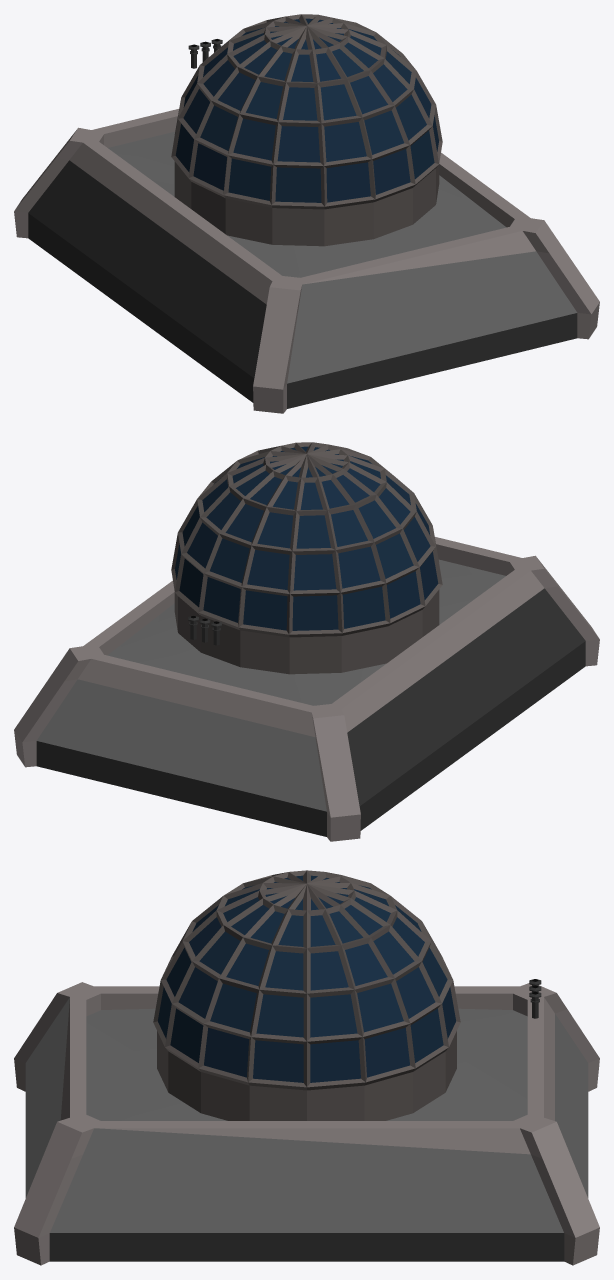
File: Cupula.fbx
The picture shows the model from 3 angles, top to bottom: view 1: azimuth 30°, elevation 25°; view 2: azimuth 150°, elevation 25°; view 3: azimuth 270°, elevation 25°; orthographic projection. The views are drawn at different scales.
Visible parts, largest first — view 1: floor_roof_skewed_frame_dome_steampunk; view 2: floor_roof_skewed_frame_dome_steampunk; view 3: floor_roof_skewed_frame_dome_steampunk.
Part boxes in pixels (bbox=[...]): floor_roof_skewed_frame_dome_steampunk: bbox=[14, 14, 599, 413]; floor_roof_skewed_frame_dome_steampunk: bbox=[14, 442, 599, 841]; floor_roof_skewed_frame_dome_steampunk: bbox=[14, 870, 599, 1265].
Bounding box in the file's own units: 1075 × 759 × 1400.
